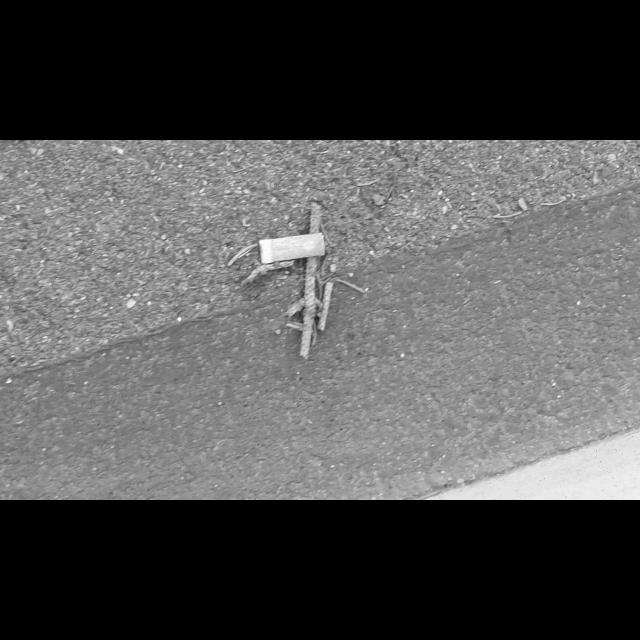cigarette: (258, 232, 326, 264)
